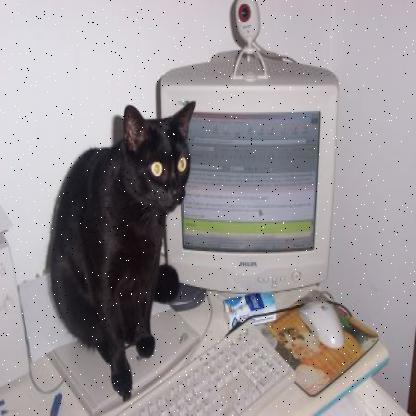cat: (63, 89, 200, 391)
